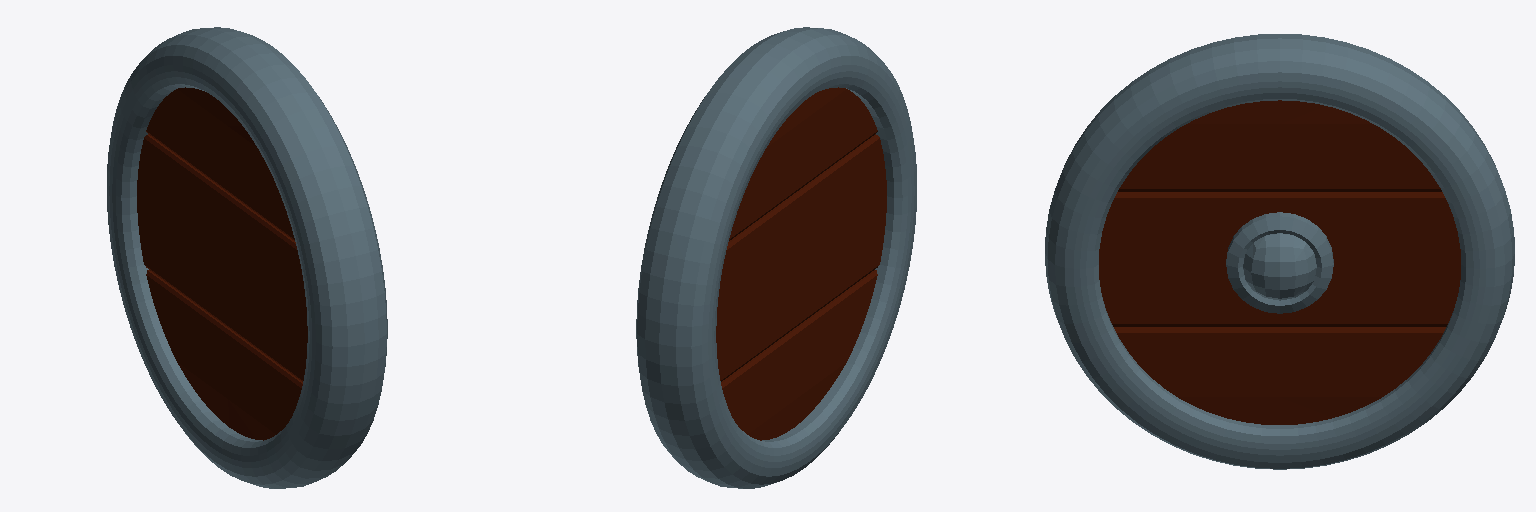
File: shield_round.obj
3 renders of one model, left to right at view 1: azimuth 30°, elevation 25°; view 2: azimuth 150°, elevation 25°; view 3: azimuth 270°, elevation 25°, orthographic.
Visible parts, largest first — view 1: shield_round; view 2: shield_round; view 3: shield_round.
Part boxes in pixels (x1,y1,x2,y2): shield_round: (107, 27, 387, 488); shield_round: (636, 27, 916, 488); shield_round: (1045, 34, 1514, 469).
Size of the model in its own units: 0.3032 by 1.41 by 1.41.